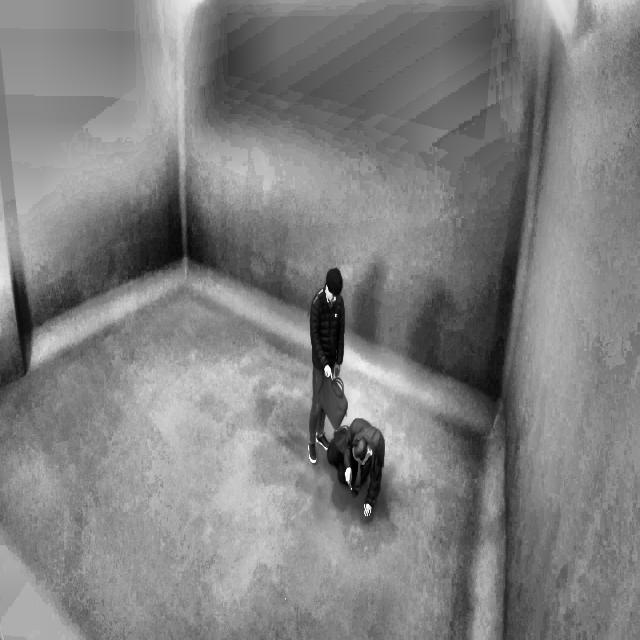assult: (301, 255, 401, 526)
